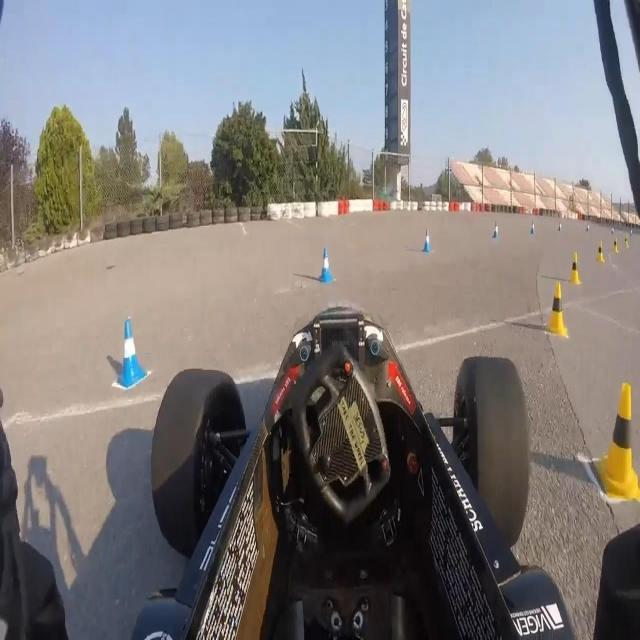blue_cone: (119, 319, 142, 383), (320, 248, 333, 284), (424, 228, 431, 252), (492, 220, 498, 238), (530, 219, 535, 235), (557, 221, 562, 235)
yellow_cone: (598, 380, 639, 498), (546, 282, 565, 337), (568, 250, 580, 284), (595, 239, 604, 264), (612, 234, 620, 256), (623, 233, 630, 253)
